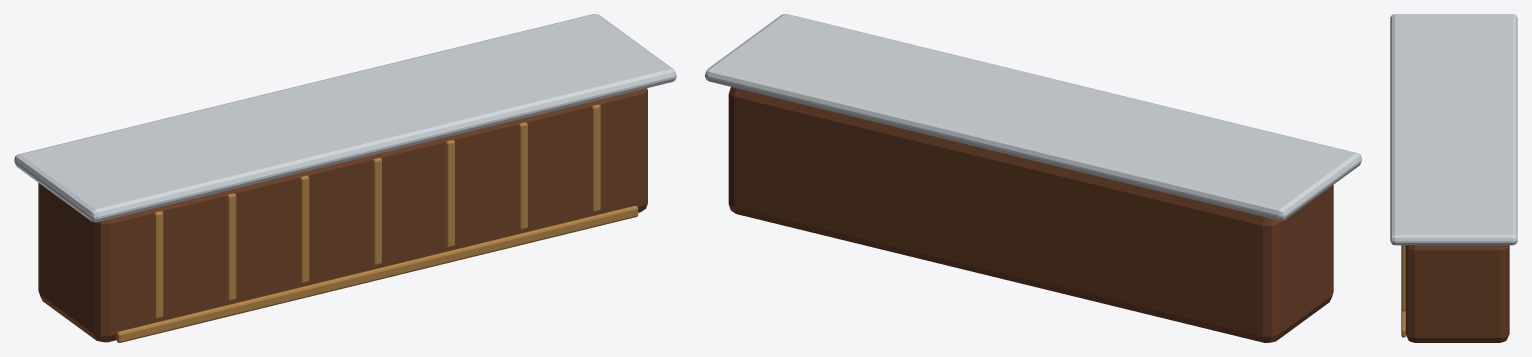
File: reception-counter.glb
The picture shows the model from 3 angles, left to right: view 1: azimuth 30°, elevation 25°; view 2: azimuth 150°, elevation 25°; view 3: azimuth 270°, elevation 25°; orthographic projection. The views are drawn at different scales.
Visible parts, largest first — view 1: counter · Walnut, counter · Quartz stone, counter · Satin brass; view 2: counter · Walnut, counter · Quartz stone; view 3: counter · Quartz stone, counter · Walnut, counter · Satin brass.
Part boxes in pixels (bbox=[...]): counter · Walnut: bbox=[38, 88, 647, 342]; counter · Quartz stone: bbox=[14, 14, 676, 222]; counter · Satin brass: bbox=[116, 104, 638, 342]; counter · Walnut: bbox=[728, 87, 1333, 342]; counter · Quartz stone: bbox=[705, 14, 1361, 220]; counter · Quartz stone: bbox=[1390, 14, 1517, 245]; counter · Walnut: bbox=[1405, 245, 1509, 342]; counter · Satin brass: bbox=[1401, 245, 1405, 337].
Bounding box in the file's own units: 4.5 × 1.08 × 1.08.
